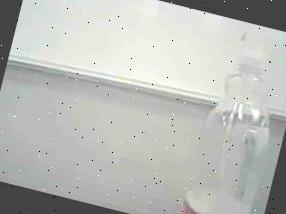hazard: (176, 18, 286, 214)
